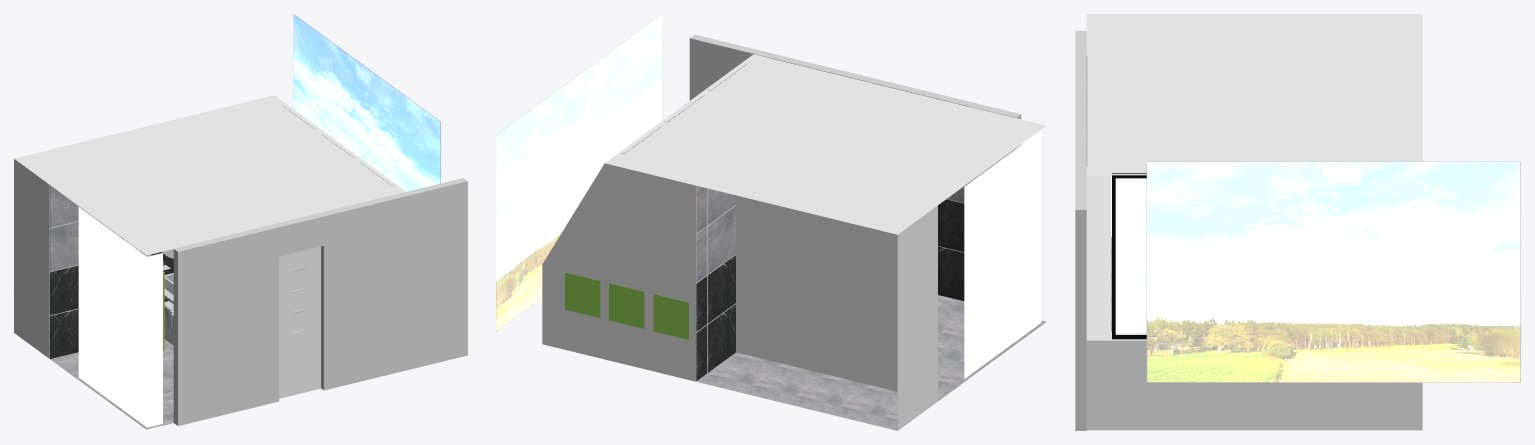
File: LAZIENKA.glb
The picture shows the model from 3 angles, left to right: view 1: azimuth 30°, elevation 25°; view 2: azimuth 150°, elevation 25°; view 3: azimuth 270°, elevation 25°; orthographic projection. The views are drawn at different scales.
Parts seen in each view (by area): view 1: Plane.025, Cube, emissive wall, Env. map billboard, Plane.026, Plane.012, Plane.015, Plane.027; view 2: Cube, Env. map billboard, emissive wall, Plane.004, Plane.025, Plane.013, Plane.016, Plane.029; view 3: Env. map billboard, Cube, emissive window planes, Plane.025, Plane.032.
Part boxes in pixels (x1,y1,x2,y2): Plane.025: (173, 178, 467, 425); Cube: (14, 95, 405, 429); emissive wall: (78, 207, 162, 430); Env. map billboard: (293, 14, 440, 191); Plane.026: (279, 246, 320, 398); Plane.012: (50, 251, 173, 358); Plane.015: (50, 185, 138, 271); Plane.027: (292, 269, 305, 332); Cube: (542, 54, 1046, 430); Env. map billboard: (496, 14, 661, 331); emissive wall: (964, 130, 1041, 382); Plane.004: (565, 272, 688, 339); Plane.025: (689, 34, 1021, 252); Plane.013: (696, 255, 735, 380); Plane.016: (696, 185, 735, 282); Plane.029: (938, 199, 964, 301); Env. map billboard: (1146, 161, 1520, 382); Cube: (1086, 14, 1422, 430); emissive window planes: (1115, 178, 1146, 333); Plane.025: (1075, 30, 1086, 430); Plane.032: (1112, 171, 1146, 339).
Size of the model in its own units: 3.82 by 2.48 by 3.65.
32 materials, 8 textured.
